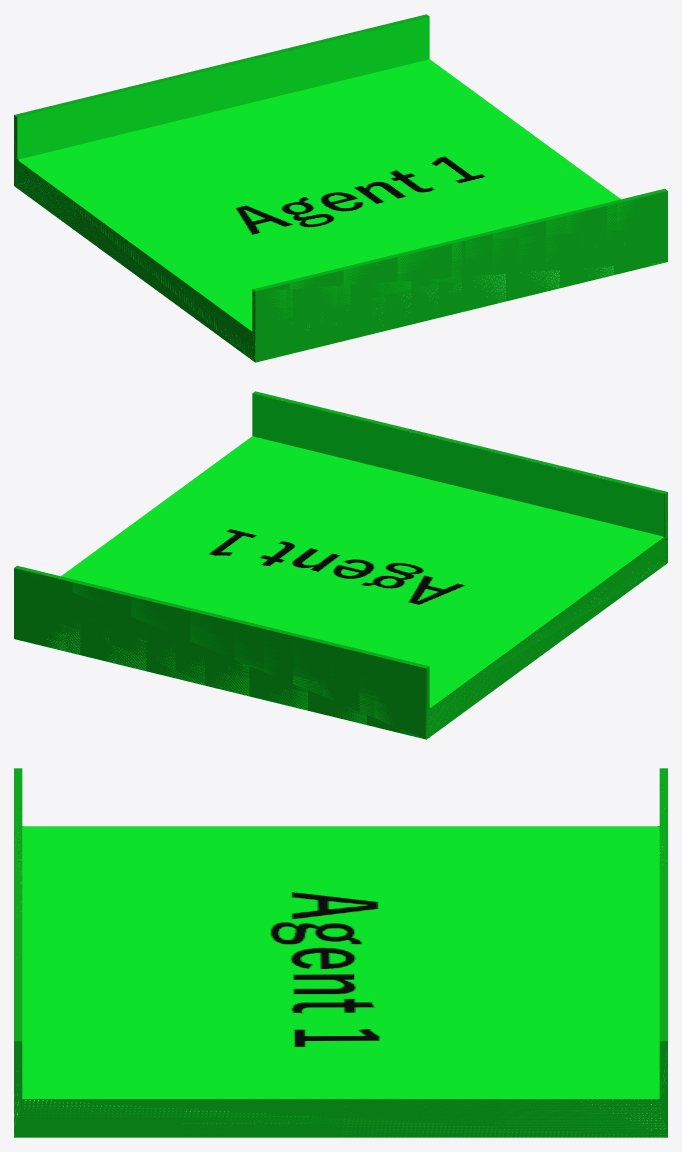
The model's file is self_play_stage_robot_1.dae.
3 renders of one model, top to bottom at view 1: azimuth 30°, elevation 25°; view 2: azimuth 150°, elevation 25°; view 3: azimuth 270°, elevation 25°, orthographic. The views are drawn at different scales.
Visible parts, largest first — view 1: selfplay_stage_half v2; view 2: selfplay_stage_half v2; view 3: selfplay_stage_half v2.
Boxes of the visible parts, box(x1,y1,x2,y2) form: selfplay_stage_half v2: box(14, 14, 667, 362); selfplay_stage_half v2: box(14, 391, 667, 739); selfplay_stage_half v2: box(14, 768, 667, 1137).
Bounding box in the file's own units: 1.52 × 1.54 × 0.25.
1 material, 1 textured.
